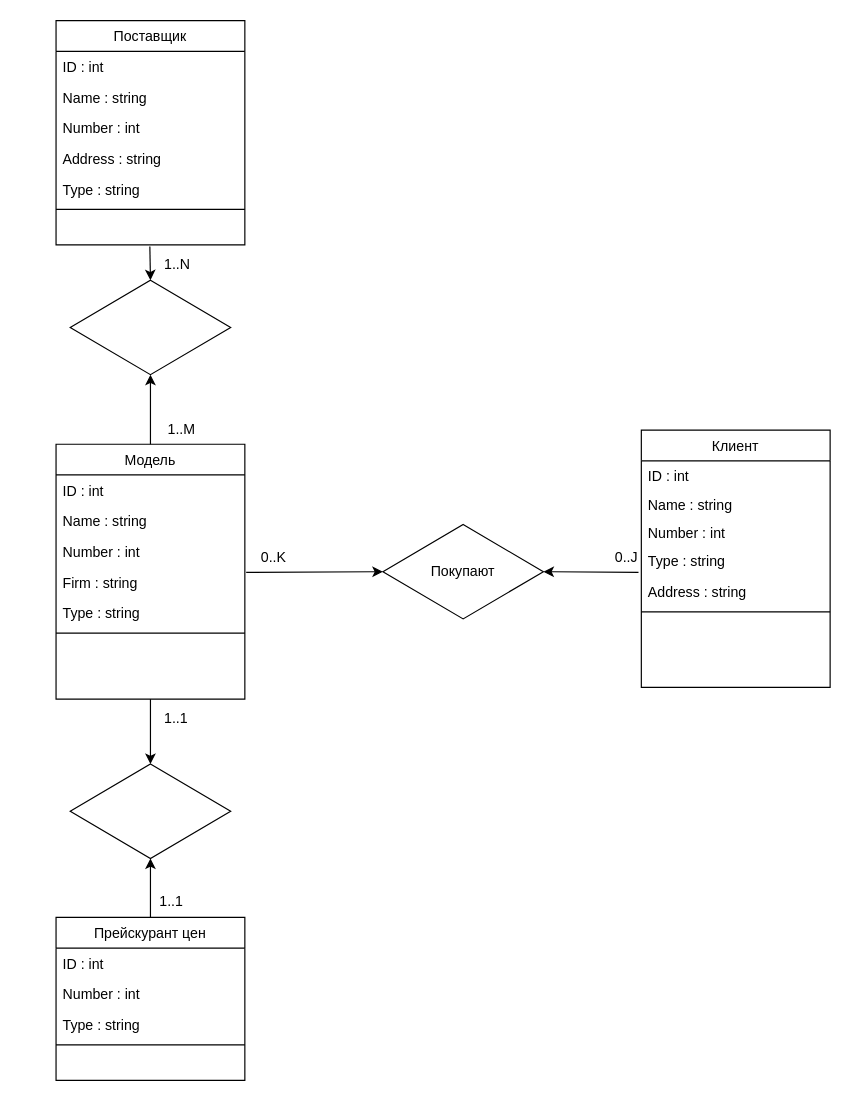
This 851x1101 diagram has some shape labels left out. The shapes that lost their labels are listed below. From the top down, each one's centre as x and y in pixels, then its label:
At [150,327]: "Предлагает".
At [150,810]: "Соответствует".
